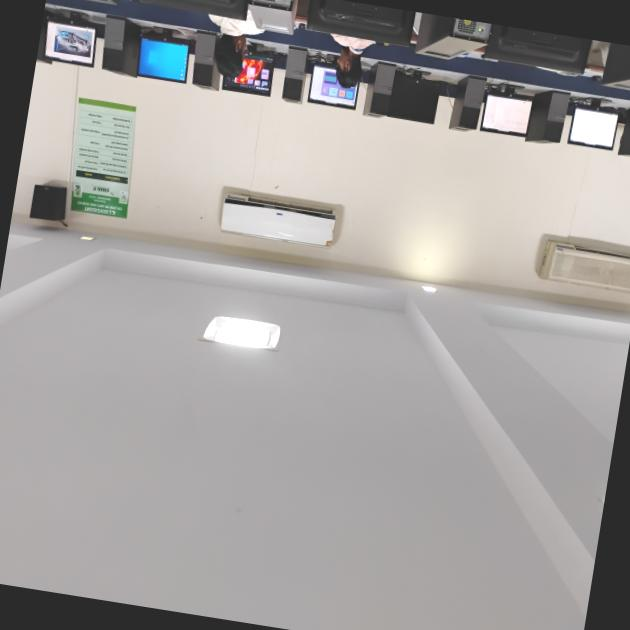air conditioner: (201, 167, 348, 256), (525, 216, 630, 310)
computer: (126, 18, 196, 92), (564, 84, 628, 164), (38, 7, 104, 73)
cpu: (520, 69, 572, 152), (272, 30, 312, 114), (446, 67, 486, 137)
light: (186, 283, 292, 369)
speaker: (22, 166, 72, 228)
